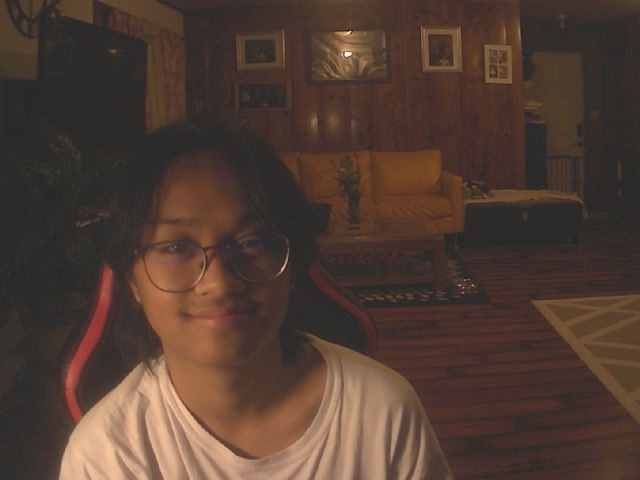happy: (94, 114, 320, 367)
